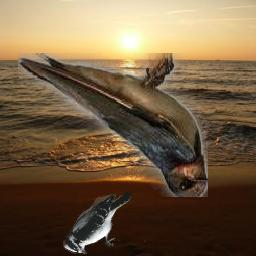Swallow: (18, 53, 208, 197)
Woodpecker: (63, 190, 131, 254)
